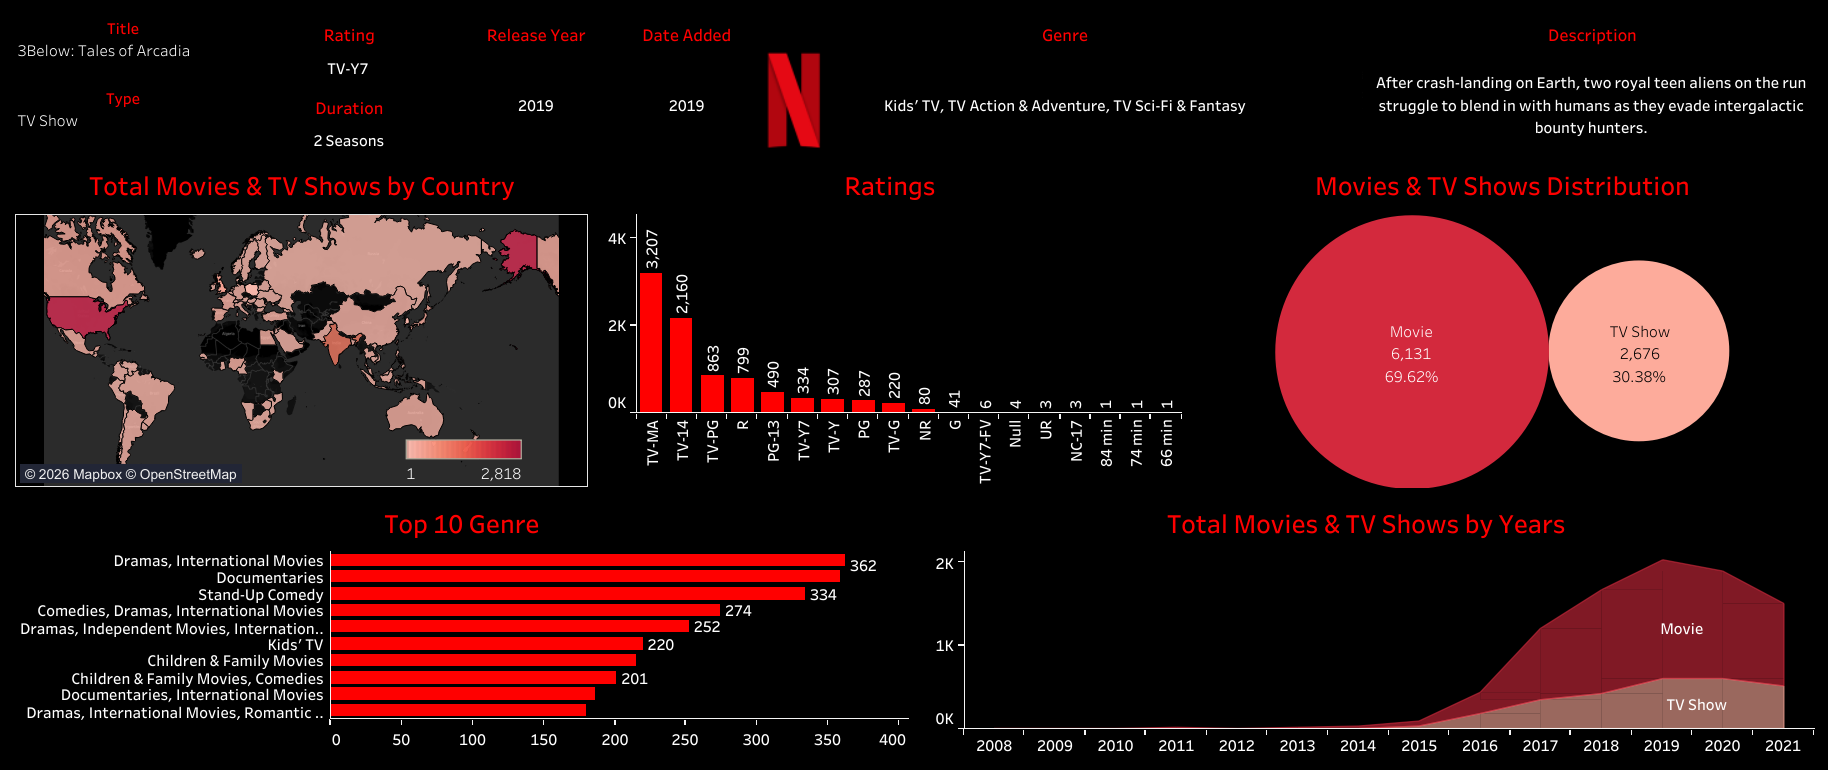

What the dashboard file says about the page in this screenshot:
{"tool":"tableau","page":{"name":"Netflix","canvas":[1000,1000],"units":"permille","ordinal":0},"visuals":[{"type":"filter","title":"Description","param":"[federated.1b260id1wdbyli13my0f20l9moxk].[none:title:nk]","box":[6.1,13.9,123.4,93.8]},{"type":"worksheet","title":"Rating","mark":"Automatic","box":[129.6,13.9,123.5,93.8]},{"type":"worksheet","title":"Release Year","mark":"Automatic","box":[253,13.9,80.5,187.5]},{"type":"worksheet","title":"Date Added","mark":"Automatic","box":[333.6,13.9,84,187.5]},{"type":"worksheet","title":"Genre","mark":"Automatic","box":[417.6,13.9,329.3,187.5]},{"type":"worksheet","title":"Description","mark":"Automatic","box":[746.9,13.9,247,187.5]},{"type":"image","param":"Image/Screenshot 2025-12-05 235426.png","box":[399.5,54.9,73,153.6]},{"type":"filter","title":"Description","param":"[federated.1b260id1wdbyli13my0f20l9moxk].[none:type:nk]","box":[6.1,107.6,123.4,93.8]},{"type":"worksheet","title":"Duration","mark":"Automatic","box":[129.6,107.6,123.5,93.8]},{"type":"worksheet","title":"Total Movies & TV Shows by Country","mark":"Multipolygon","box":[6.1,201.4,318.8,436.4]},{"type":"worksheet","title":"Ratings","mark":"Automatic","rows":["show_id"],"cols":["rating"],"box":[324.9,201.4,323.5,436.4]},{"type":"worksheet","title":"Movies & TV Shows Distribution","mark":"Circle","box":[648.4,201.4,345.5,436.4]},{"type":"legend","title":"Total Movies & TV Shows by Country","param":"[federated.1b260id1wdbyli13my0f20l9moxk].[ctd:show_id:qk]","box":[219.2,564.2,69,109.4]},{"type":"worksheet","title":"Top 10 Genre","mark":"Automatic","rows":["listed_in"],"cols":["show_id"],"box":[6.1,637.8,493.8,348.3]},{"type":"worksheet","title":"Total Movies & TV Shows by Years","mark":"Area","rows":["show_id"],"cols":["date_added"],"box":[500,637.8,493.9,348.3]}]}

Visuals, with their boxes on the dashboard's canvas, which has no fixed pixel size, in thousandths of its width and height (x1, y1, x2, y2). These are canvas units, not pixel positions in the 1828x770 screenshot, which may show the page scaled, cropped or inside an application window:
"Description" filter: (6, 14, 130, 108)
"Rating" worksheet: (130, 14, 253, 108)
"Release Year" worksheet: (253, 14, 334, 201)
"Date Added" worksheet: (334, 14, 418, 201)
"Genre" worksheet: (418, 14, 747, 201)
"Description" worksheet: (747, 14, 994, 201)
image: (400, 55, 472, 208)
"Description" filter: (6, 108, 130, 201)
"Duration" worksheet: (130, 108, 253, 201)
"Total Movies & TV Shows by Country" worksheet (Multipolygon marks): (6, 201, 325, 638)
"Ratings" worksheet: (325, 201, 648, 638)
"Movies & TV Shows Distribution" worksheet (Circle marks): (648, 201, 994, 638)
"Total Movies & TV Shows by Country" legend: (219, 564, 288, 674)
"Top 10 Genre" worksheet: (6, 638, 500, 986)
"Total Movies & TV Shows by Years" worksheet (Area marks): (500, 638, 994, 986)
